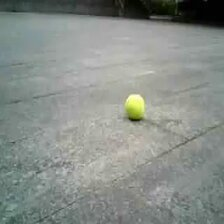tennis: (125, 96, 145, 120)
